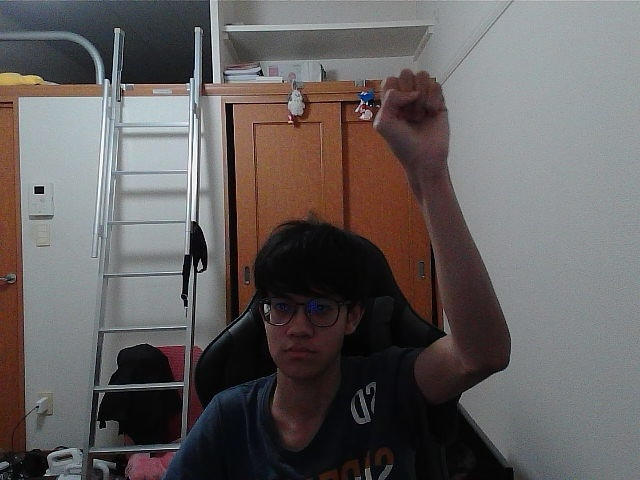closed_palm: (384, 74, 436, 154)
